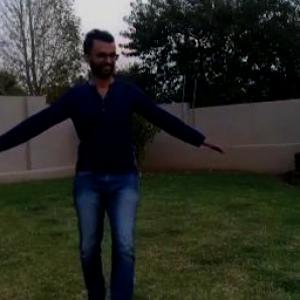land: (1, 14, 254, 299)
